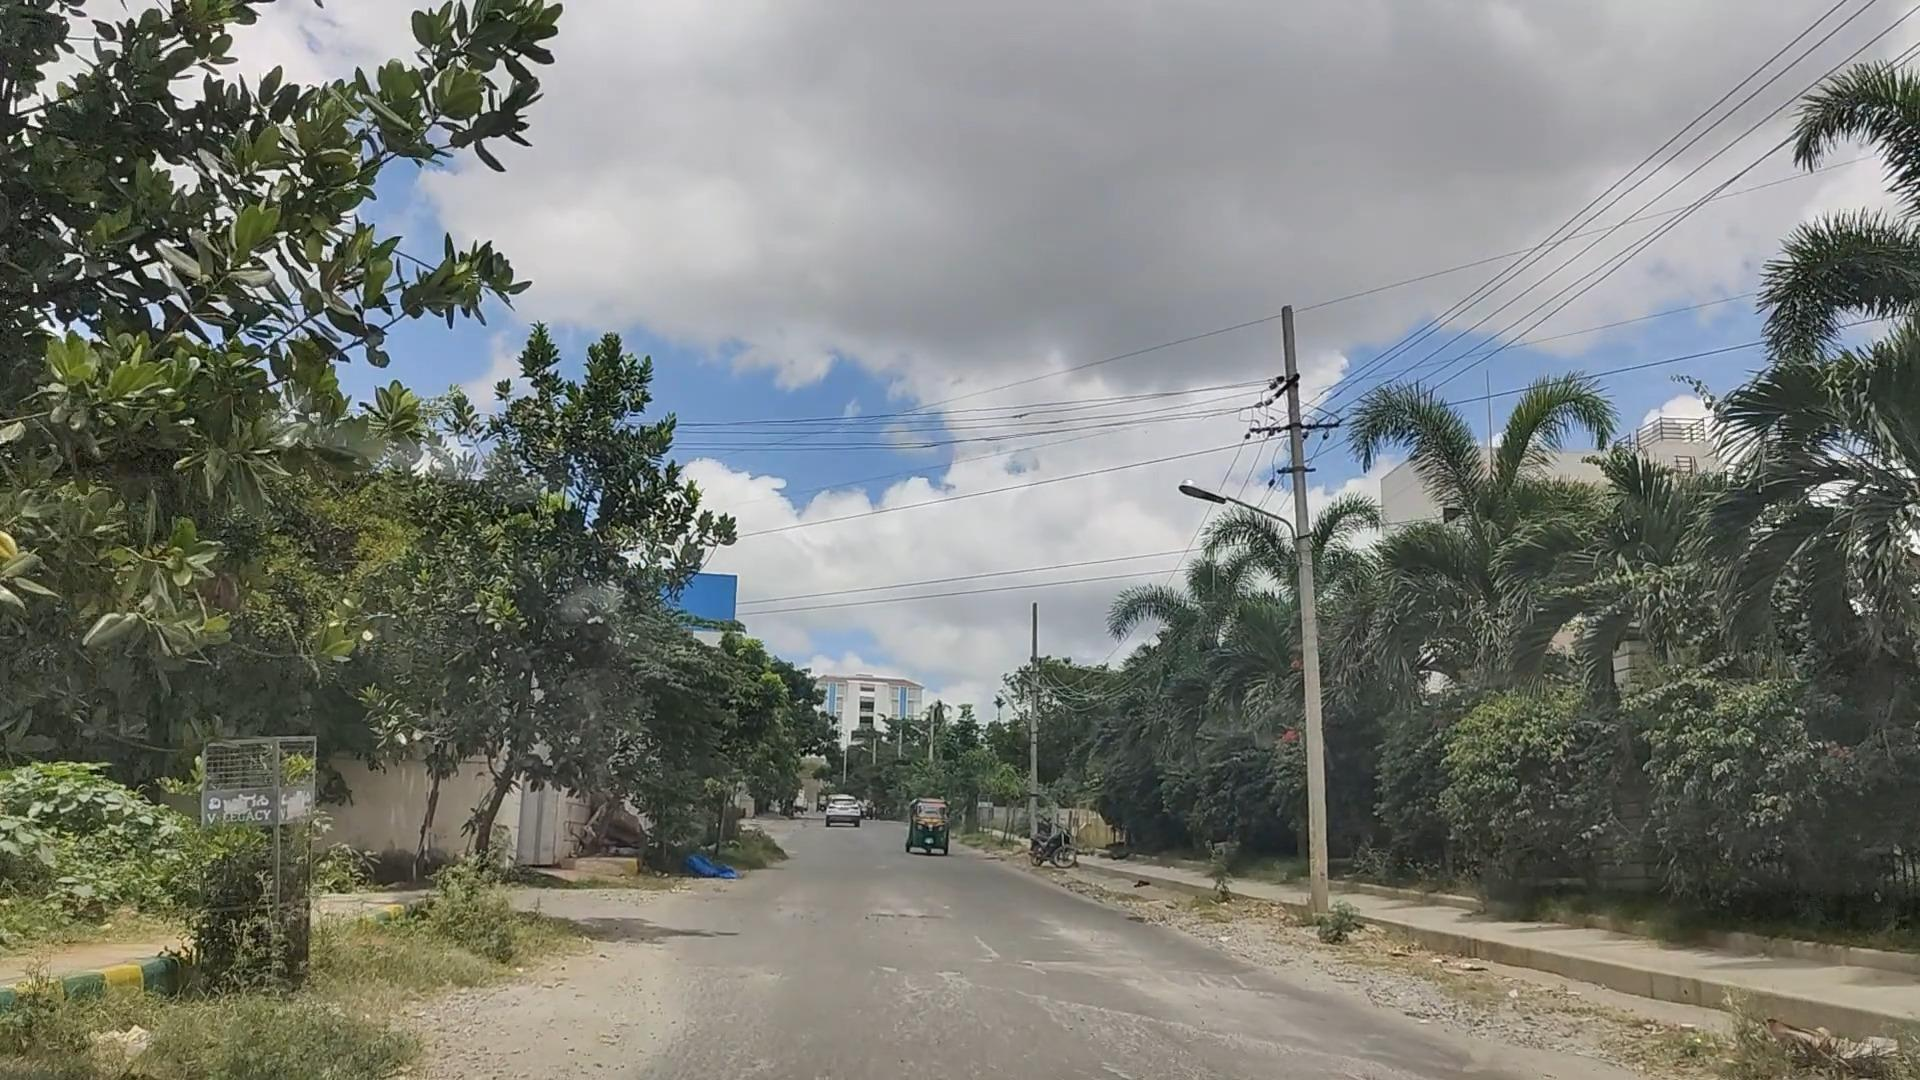RoadDamages: (922, 939, 1276, 1065)
